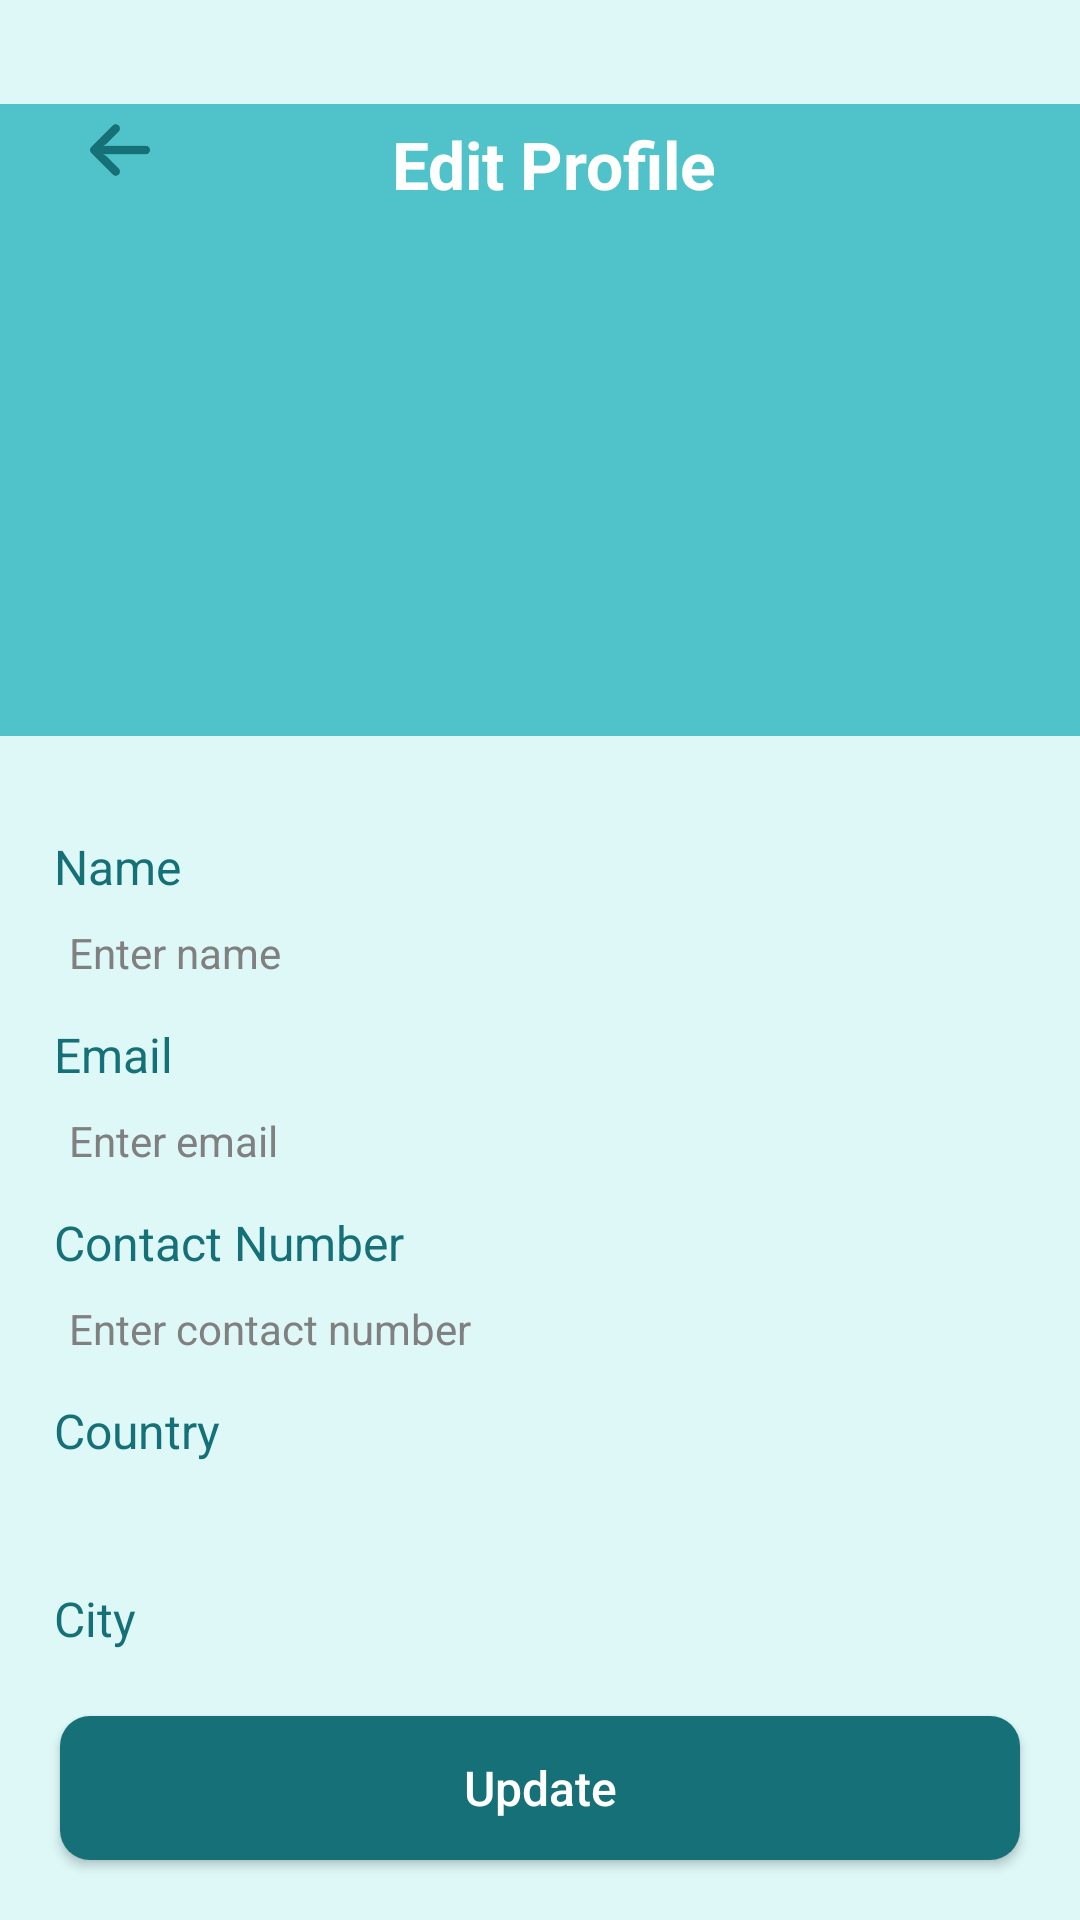

Icons on this 1080 x 1920 Android screen, each with the point to tap as [x,y]:
arrow: [120,150]
